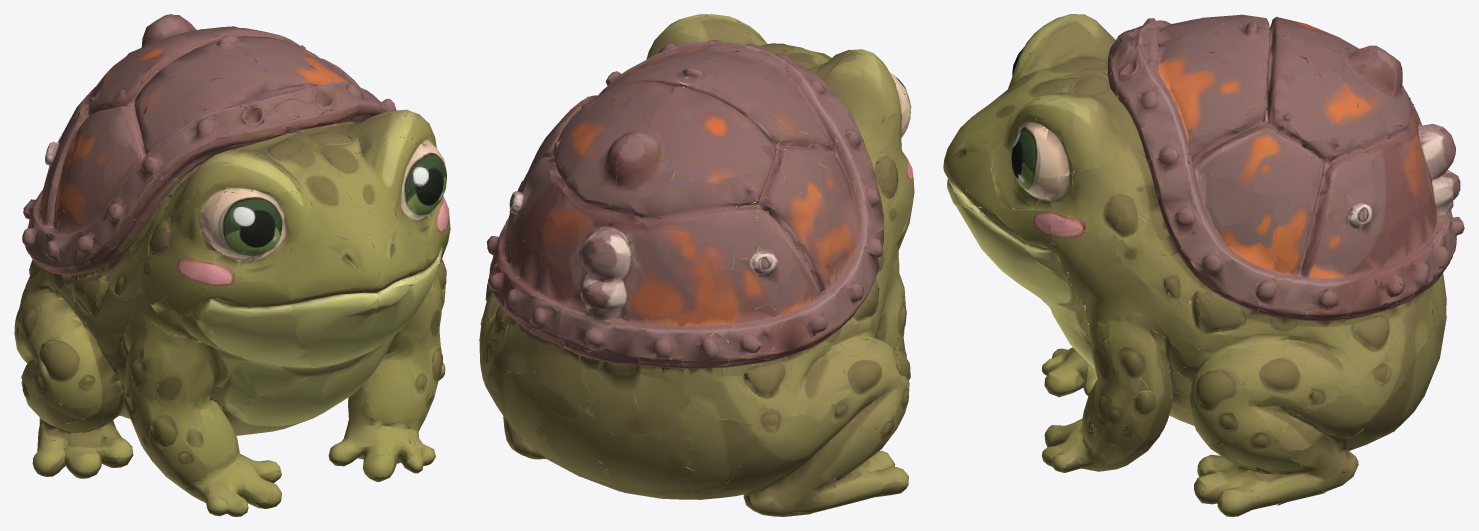
3 renders of one model, left to right at view 1: azimuth 30°, elevation 25°; view 2: azimuth 150°, elevation 25°; view 3: azimuth 270°, elevation 25°, orthographic. The views are drawn at different scales.
Parts seen in each view (by area): view 1: Mesh_0; view 2: Mesh_0; view 3: Mesh_0.
Boxes of the visible parts, x1,y1,x2,y2 form: Mesh_0: (14, 14, 450, 516); Mesh_0: (479, 14, 914, 516); Mesh_0: (943, 14, 1464, 516).
Bounding box in the file's own units: 1.76 × 1.6 × 1.9.
Materials: 1 (1 with a texture image).
